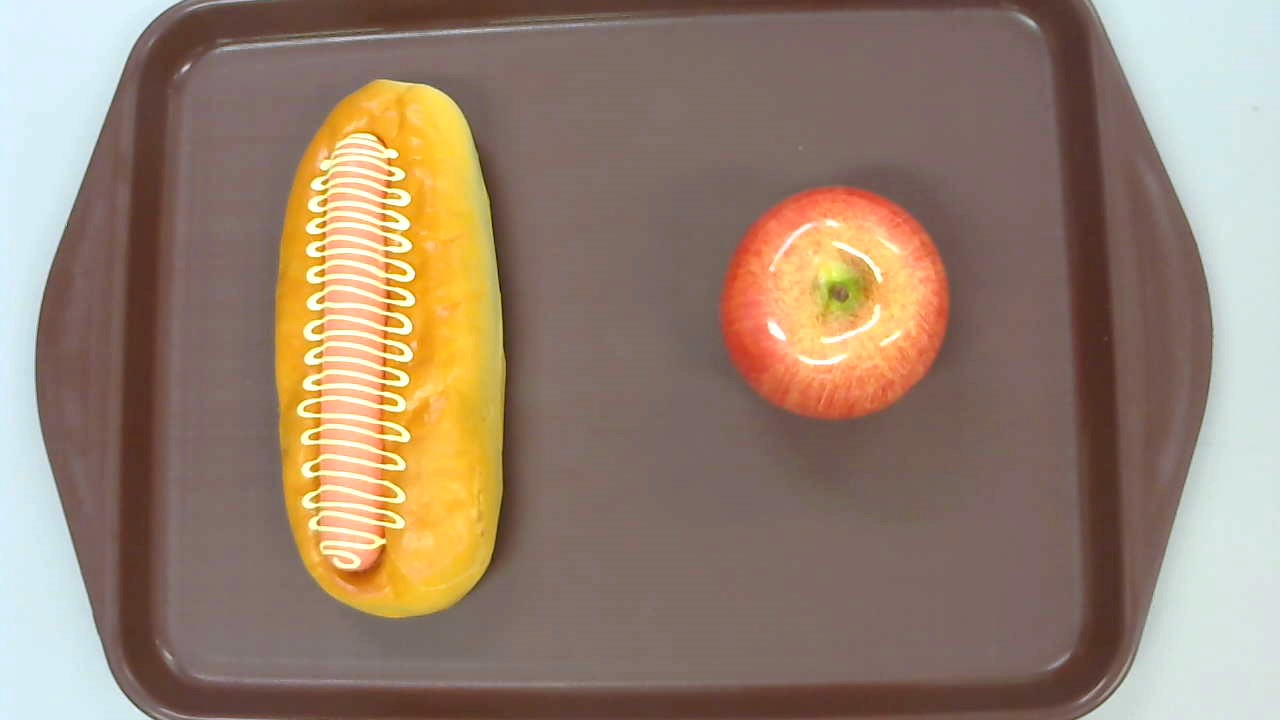hot dog: (274, 80, 506, 619)
red apple: (717, 186, 950, 420)
